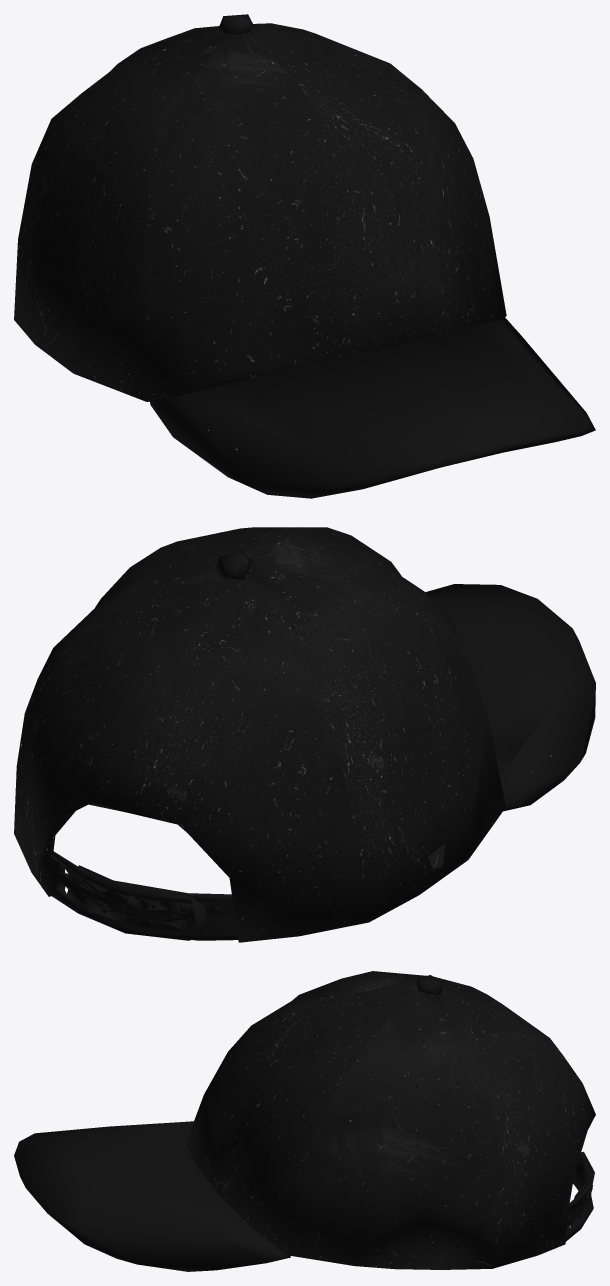
The model's file is ASSET_cap.glb.
3 renders of one model, top to bottom at view 1: azimuth 30°, elevation 25°; view 2: azimuth 150°, elevation 25°; view 3: azimuth 270°, elevation 25°, orthographic. The views are drawn at different scales.
Parts seen in each view (by area): view 1: ASSET_cap; view 2: ASSET_cap; view 3: ASSET_cap.
Part boxes in pixels (left/top/right/bottom): ASSET_cap: left=14, top=14, right=595, bottom=498; ASSET_cap: left=14, top=527, right=595, bottom=942; ASSET_cap: left=14, top=971, right=595, bottom=1271.
Bounding box in the file's own units: 0.1147 × 0.0843 × 0.192.
Materials: 2 (1 with a texture image).
